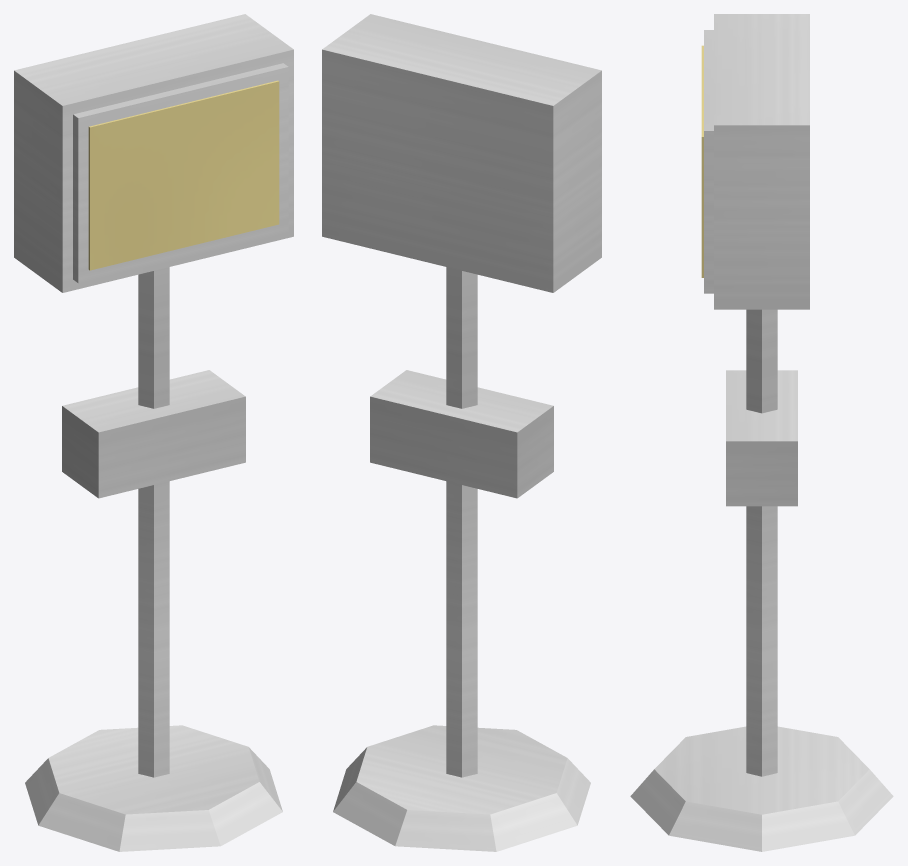
Rendered from vitals_monitor.obj.
The picture shows the model from 3 angles, left to right: view 1: azimuth 30°, elevation 25°; view 2: azimuth 150°, elevation 25°; view 3: azimuth 270°, elevation 25°; orthographic projection.
Parts seen in each view (by area): view 1: vitals_monitor; view 2: vitals_monitor; view 3: vitals_monitor.
Boxes of the visible parts, x1,y1,x2,y2 form: vitals_monitor: (14, 14, 293, 851); vitals_monitor: (322, 14, 601, 851); vitals_monitor: (630, 14, 893, 851).
Size of the model in its own units: 0.44 by 1.34 by 0.44.
